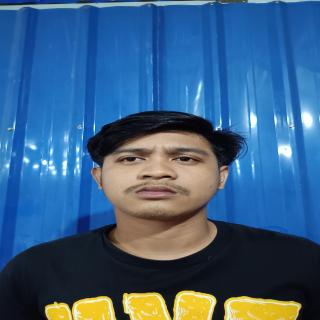Marah: (91, 120, 237, 221)
